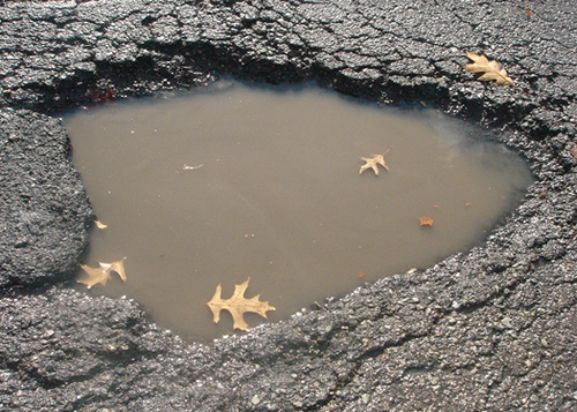pothole: (22, 32, 563, 346)
